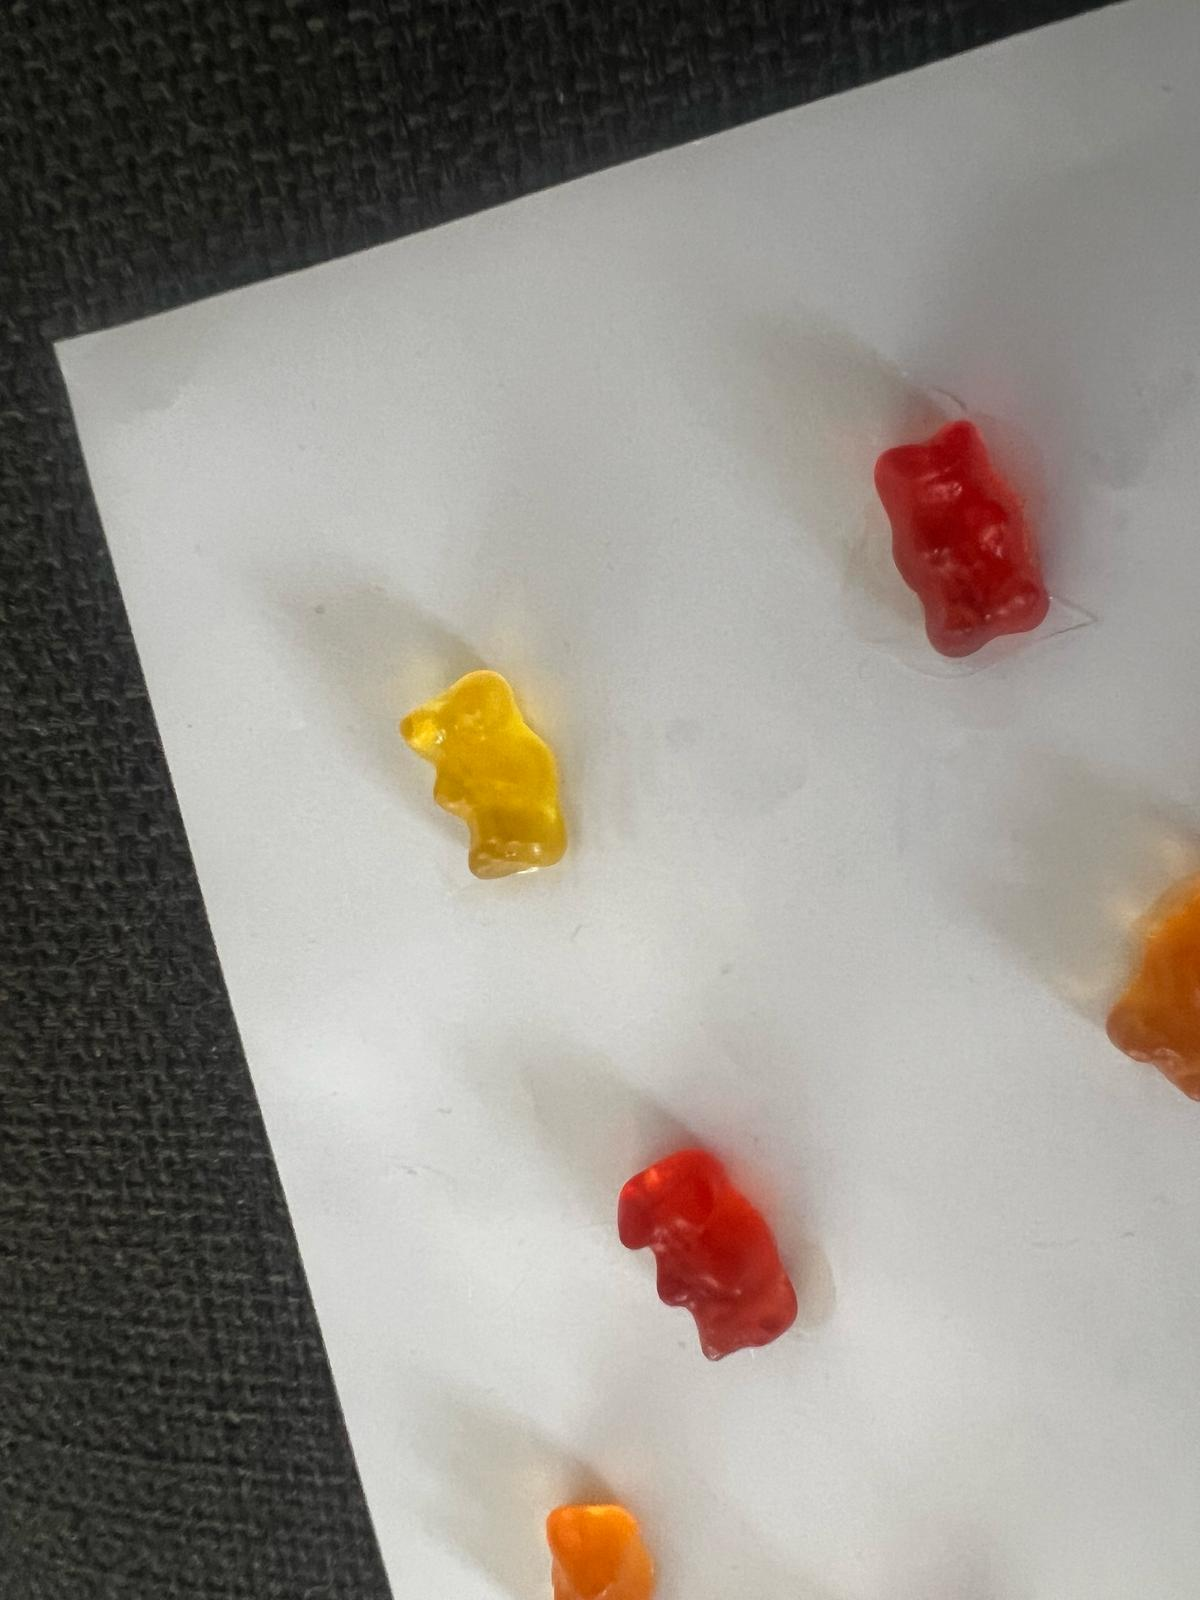gummybear: (858, 399, 1070, 670), (379, 658, 601, 894), (601, 1133, 807, 1373)
